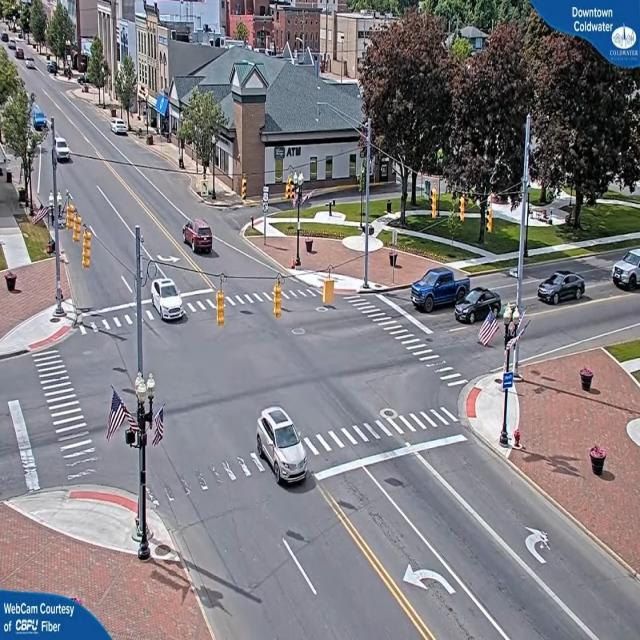car: (256, 406, 310, 486), (410, 266, 466, 311), (146, 275, 186, 326), (538, 270, 588, 304), (458, 287, 504, 323), (611, 249, 640, 291), (182, 222, 215, 256), (54, 135, 71, 162), (112, 121, 130, 138), (27, 60, 37, 70)
